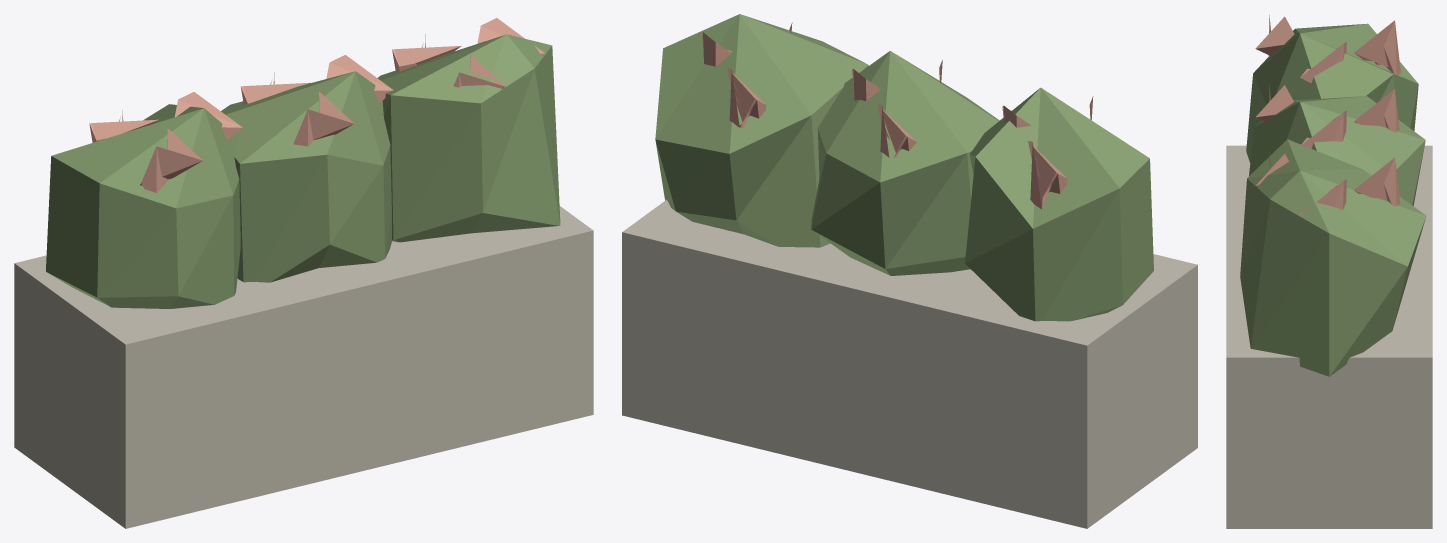
The picture shows the model from 3 angles, left to right: view 1: azimuth 30°, elevation 25°; view 2: azimuth 150°, elevation 25°; view 3: azimuth 270°, elevation 25°; orthographic projection. The views are drawn at different scales.
Size of the model in its own units: 1.76 by 1.26 by 0.7.
